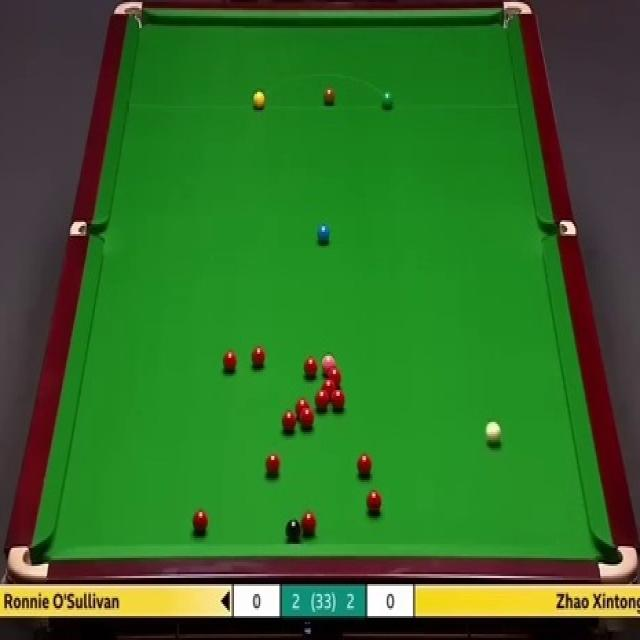black-ball: (286, 517, 300, 543)
blue-ball: (316, 225, 331, 242)
brown-ball: (324, 88, 335, 106)
green-ball: (380, 88, 395, 110)
pink-ball: (321, 354, 336, 374)
red-ball: (301, 509, 318, 538), (356, 452, 373, 477), (264, 454, 282, 476), (192, 511, 209, 534), (325, 366, 342, 389), (367, 490, 382, 514), (301, 358, 319, 378), (281, 409, 296, 433), (251, 343, 266, 366), (222, 352, 238, 372), (331, 388, 346, 408), (296, 398, 309, 418), (301, 408, 314, 428), (316, 389, 328, 408)
white-ball: (485, 419, 503, 447)
yellow-ball: (253, 90, 265, 110)
